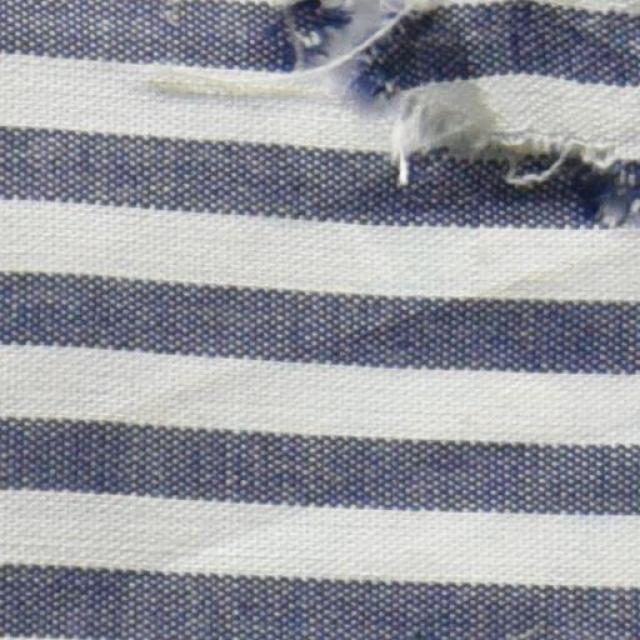cut: (407, 113, 638, 202), (282, 0, 410, 142)
